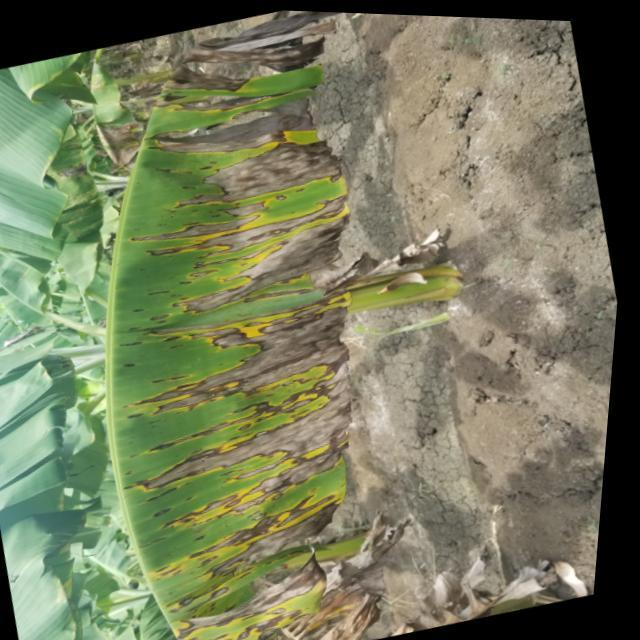Early_rust: (65, 17, 426, 640)
